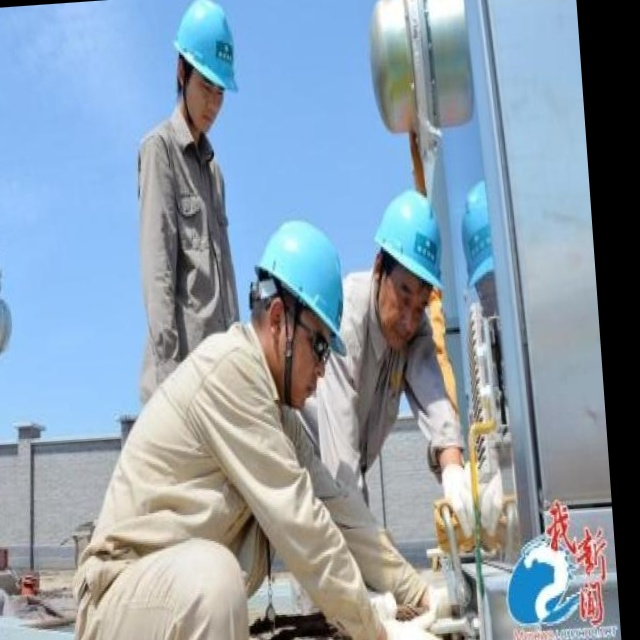Con_Casco: (251, 215, 350, 408), (168, 0, 241, 132)
